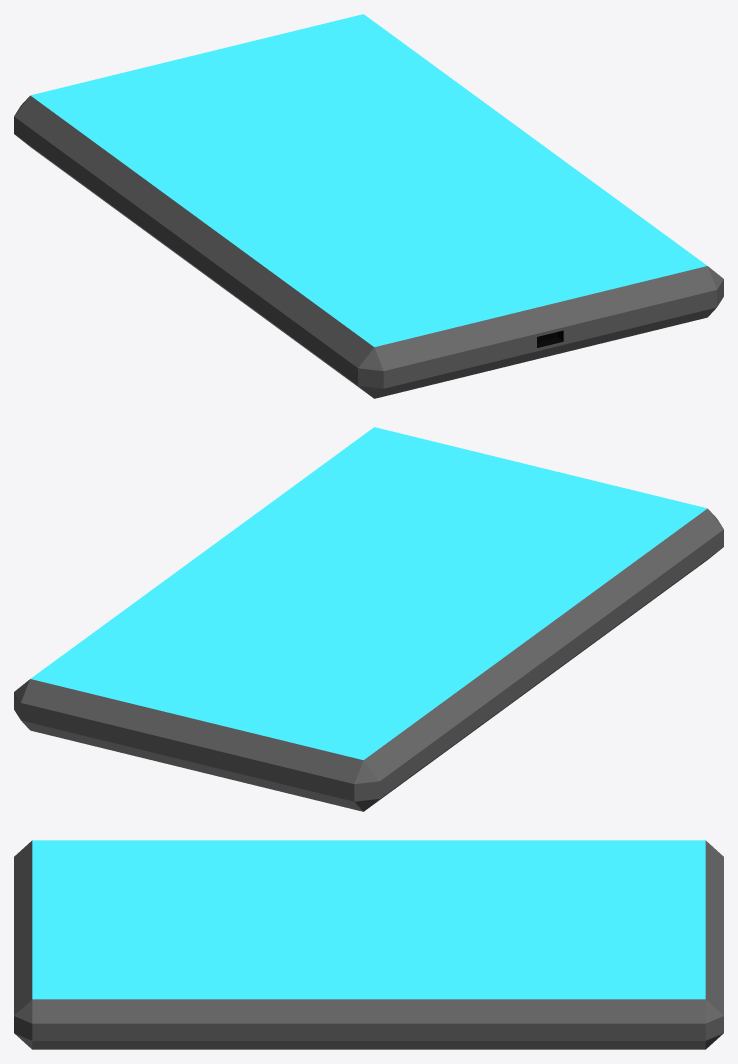
Rendered from Tablet_Screen_On.fbx.
The picture shows the model from 3 angles, top to bottom: view 1: azimuth 30°, elevation 25°; view 2: azimuth 150°, elevation 25°; view 3: azimuth 270°, elevation 25°; orthographic projection. The views are drawn at different scales.
Visible parts, largest first — view 1: Tablet_Screen_On; view 2: Tablet_Screen_On; view 3: Tablet_Screen_On.
Part boxes in pixels (x1=…): Tablet_Screen_On: x1=14, y1=14, x2=723, y2=398; Tablet_Screen_On: x1=14, y1=427, x2=723, y2=811; Tablet_Screen_On: x1=14, y1=840, x2=723, y2=1049.
Size of the model in its own units: 200 by 26.97 by 344.
